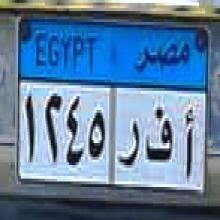1: (23, 94, 36, 161)
2: (44, 89, 64, 163)
4: (64, 95, 84, 165)
5: (87, 108, 108, 161)
alif: (180, 109, 196, 180)
faa: (144, 99, 175, 166)
raa: (117, 118, 141, 170)
